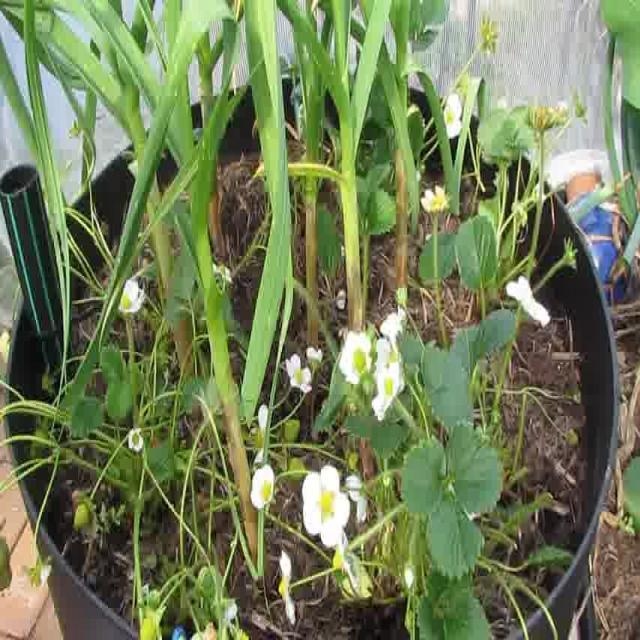Fruta sana: (73, 491, 96, 532), (141, 606, 166, 640), (30, 416, 48, 459), (0, 537, 12, 591), (281, 458, 306, 479), (281, 420, 300, 444), (348, 448, 360, 471), (42, 374, 54, 396)
Moho gris: (190, 620, 216, 640)
